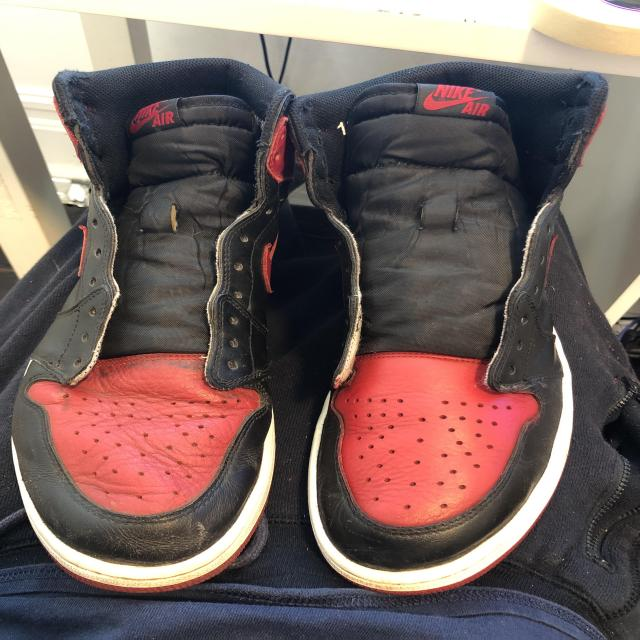shoes: (286, 24, 626, 640), (18, 24, 347, 638)
